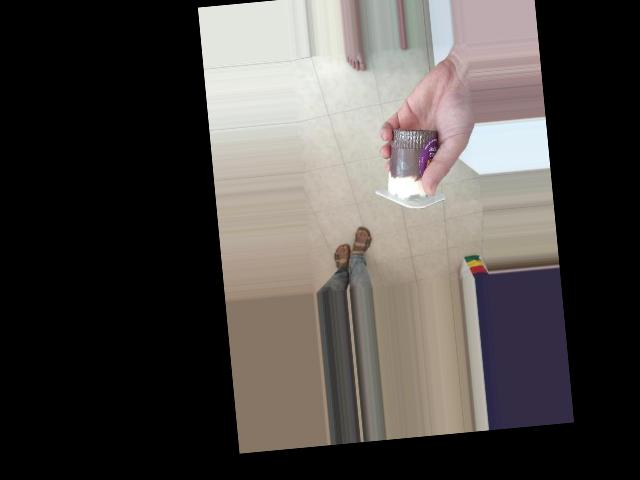milky: (377, 132, 437, 215)
